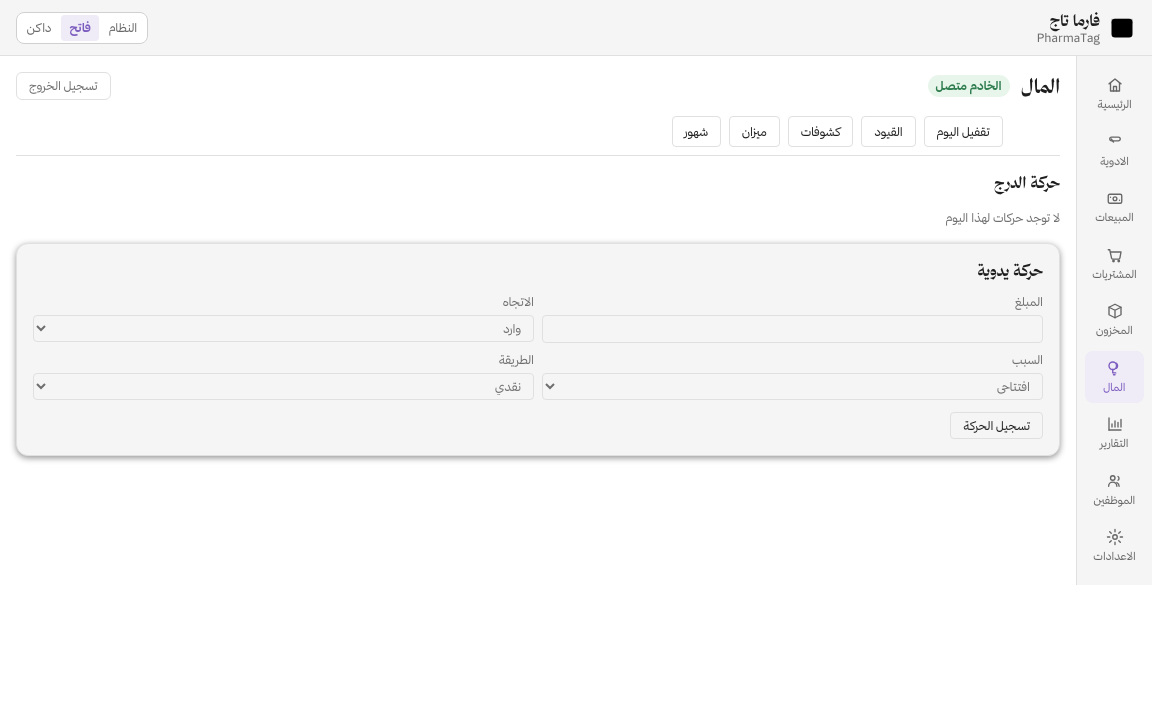
it: MoneyPage — journals › reverses an entry and surfaces double-reverse 409
Click the tab "القيود": {"x": 889, "y": 132} [861,116,916,147]
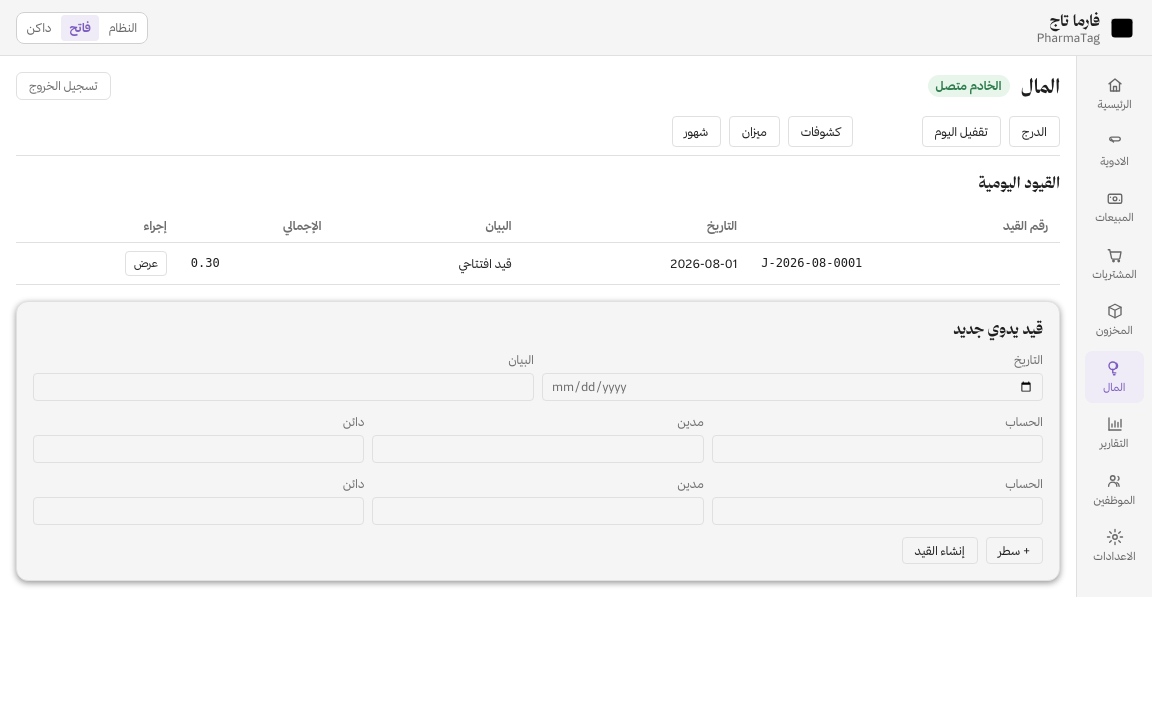
Click the button "عرض": {"x": 146, "y": 263} [125,251,167,276]
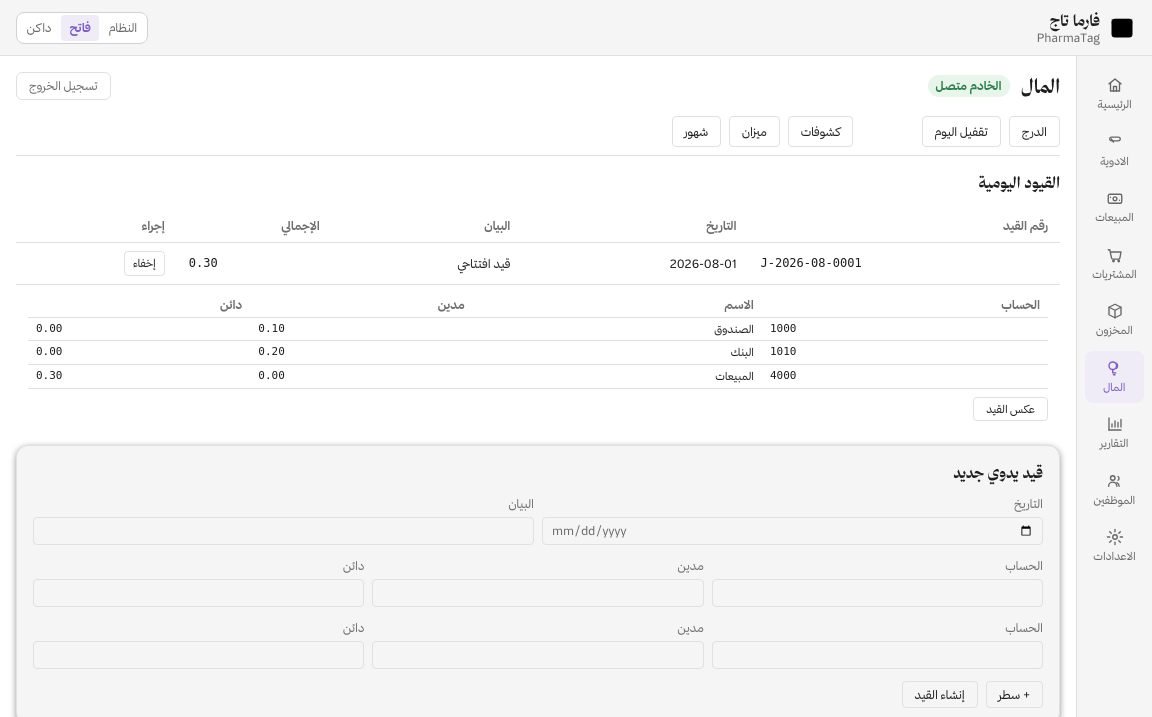
Click the button "عكس القيد": {"x": 1011, "y": 409} [973,397,1048,421]
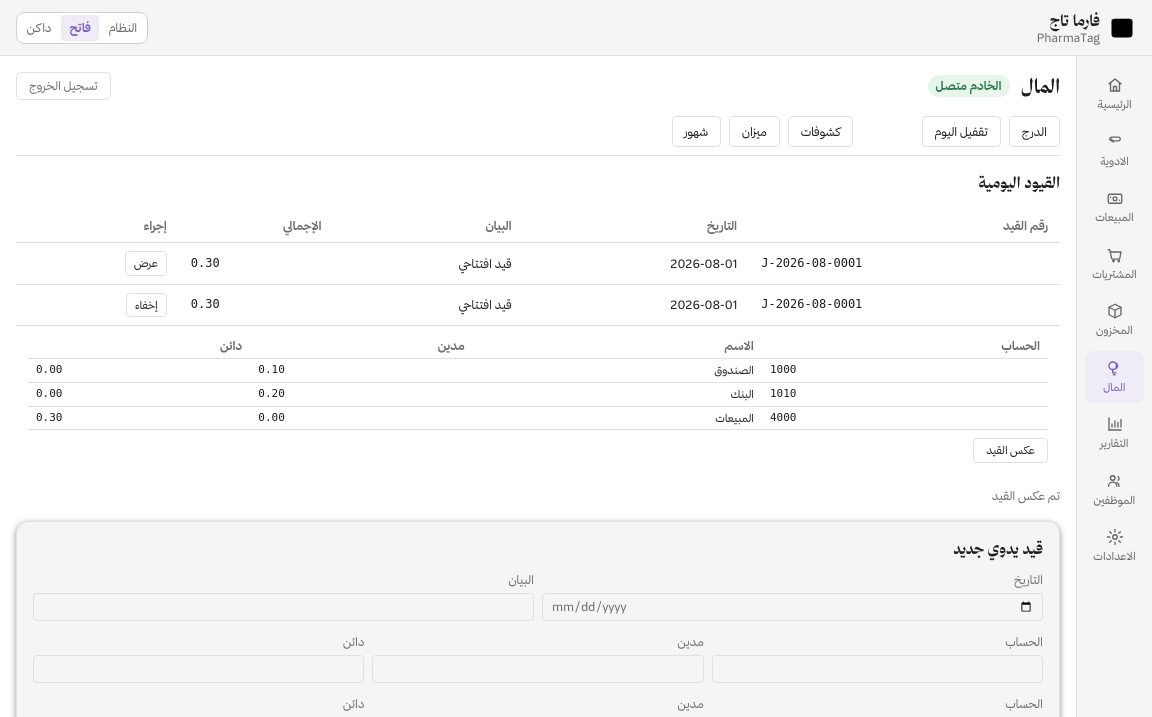
Check: the text "تم عكس القيد" is shown, box [992,488,1060,503]
Click the button "عكس القيد": {"x": 1011, "y": 451} [973,438,1048,463]
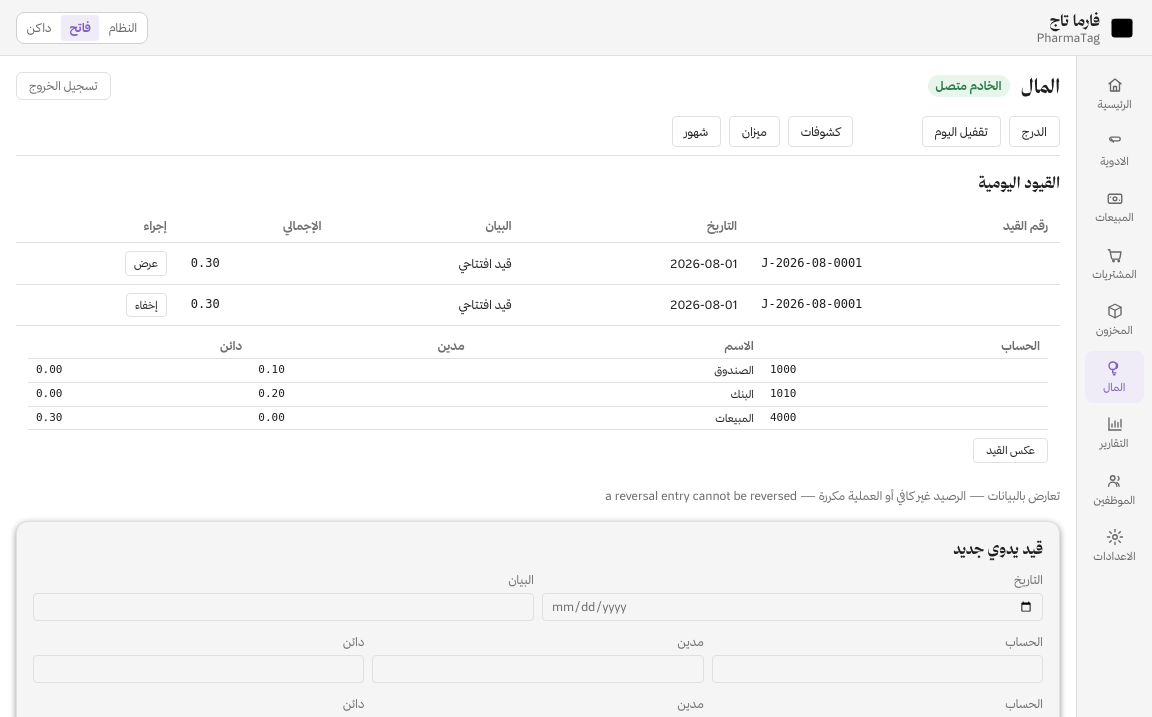
Check: the text "a reversal entry cannot be reversed" is shown, box [605,488,1060,503]
